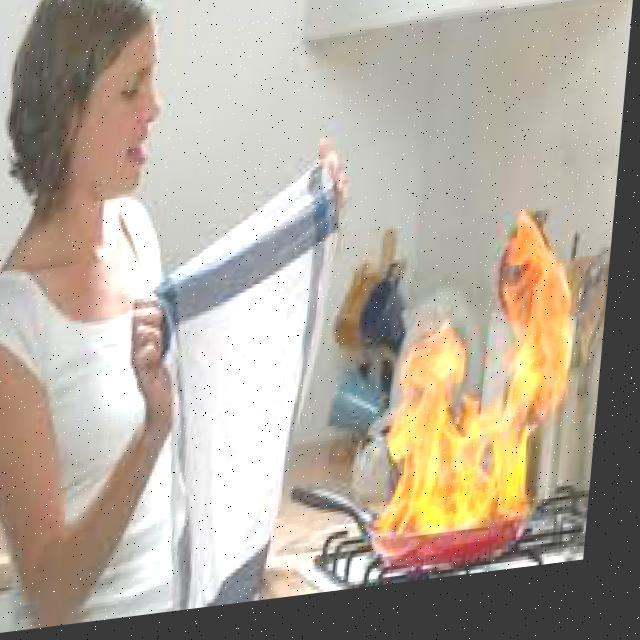Fire: (377, 226, 610, 581)
